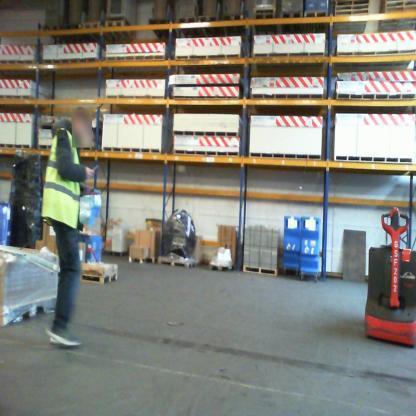pallets: (72, 7, 332, 31), (122, 254, 202, 269), (78, 268, 118, 286), (0, 143, 52, 154), (241, 263, 278, 277), (208, 262, 233, 271)
